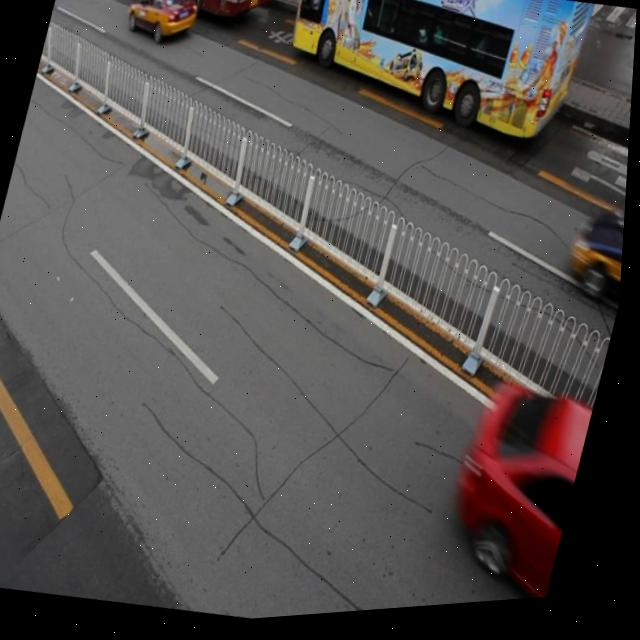car: (445, 380, 604, 612), (566, 206, 629, 316), (124, 0, 204, 52)
van: (268, 0, 597, 168), (110, 0, 279, 36)
